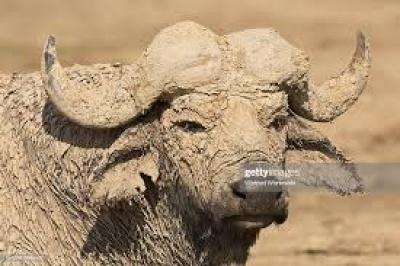buffalo: (0, 21, 399, 265)
